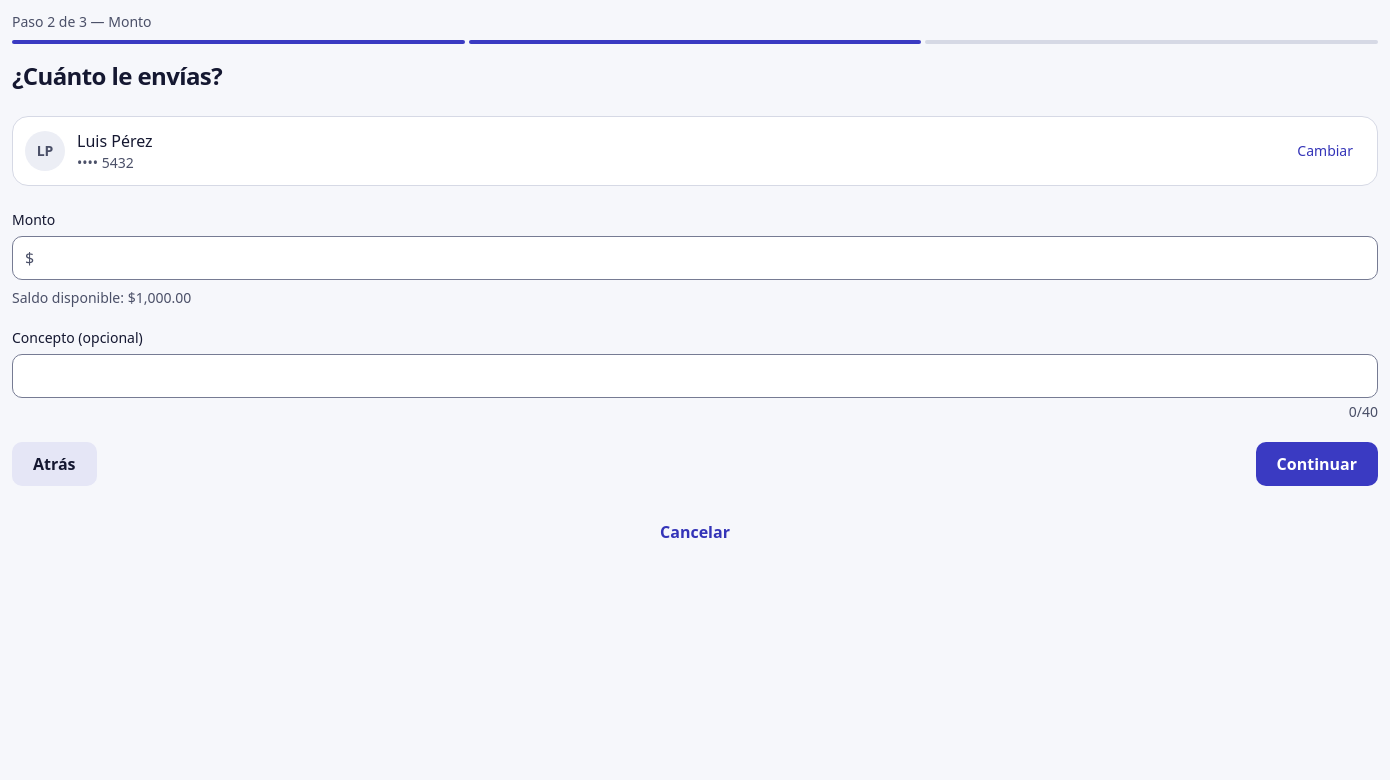
Test: [TC-COMP-11] Amount step › [UIR-TX-10][AC-TX-04] numeric keyboard, grouping while typing, no letters or third decimal
The image size is (1390, 780).
Type "1250a.507" into the field labelled "Monto". click: (704, 258)
box: [42,238,1365,278]
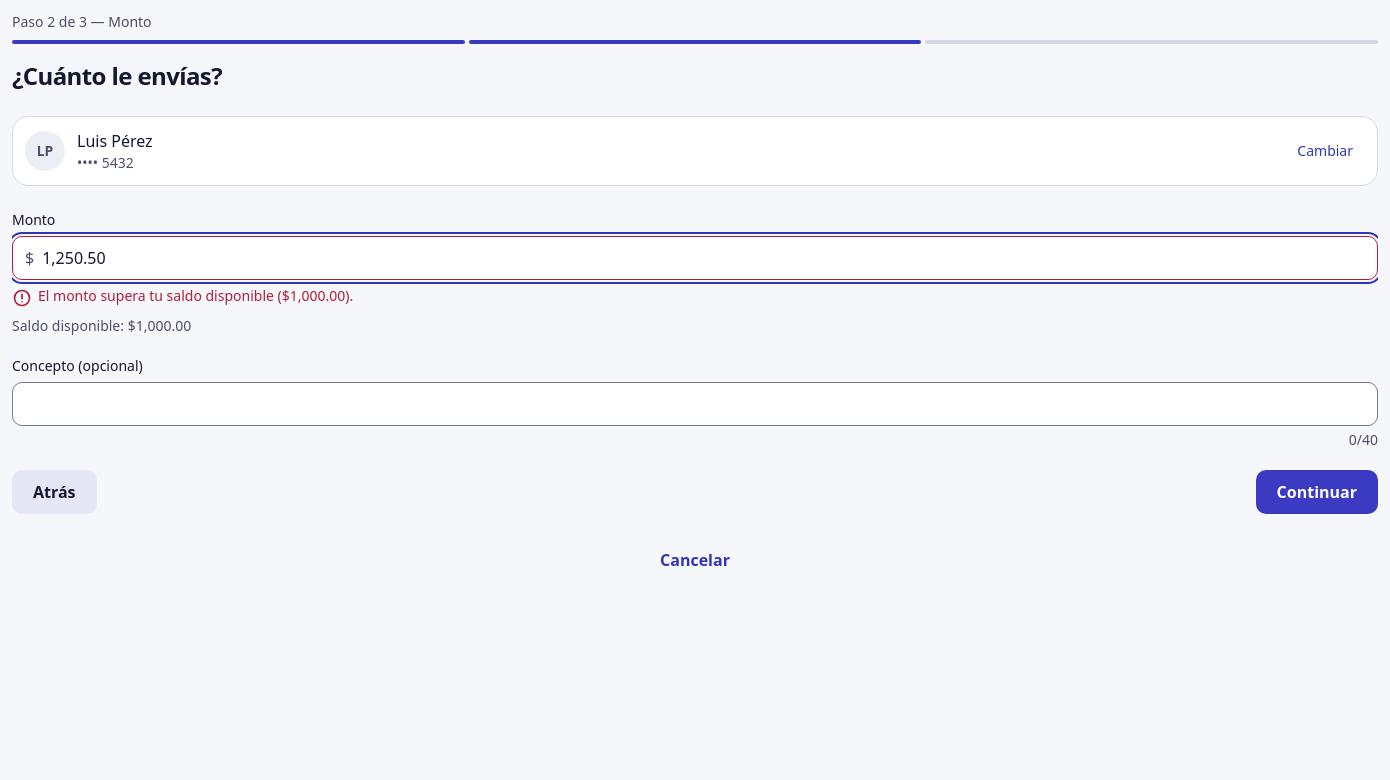
Expected: the field labelled "Monto" holds "1,250.50", [42,238,1365,278]
